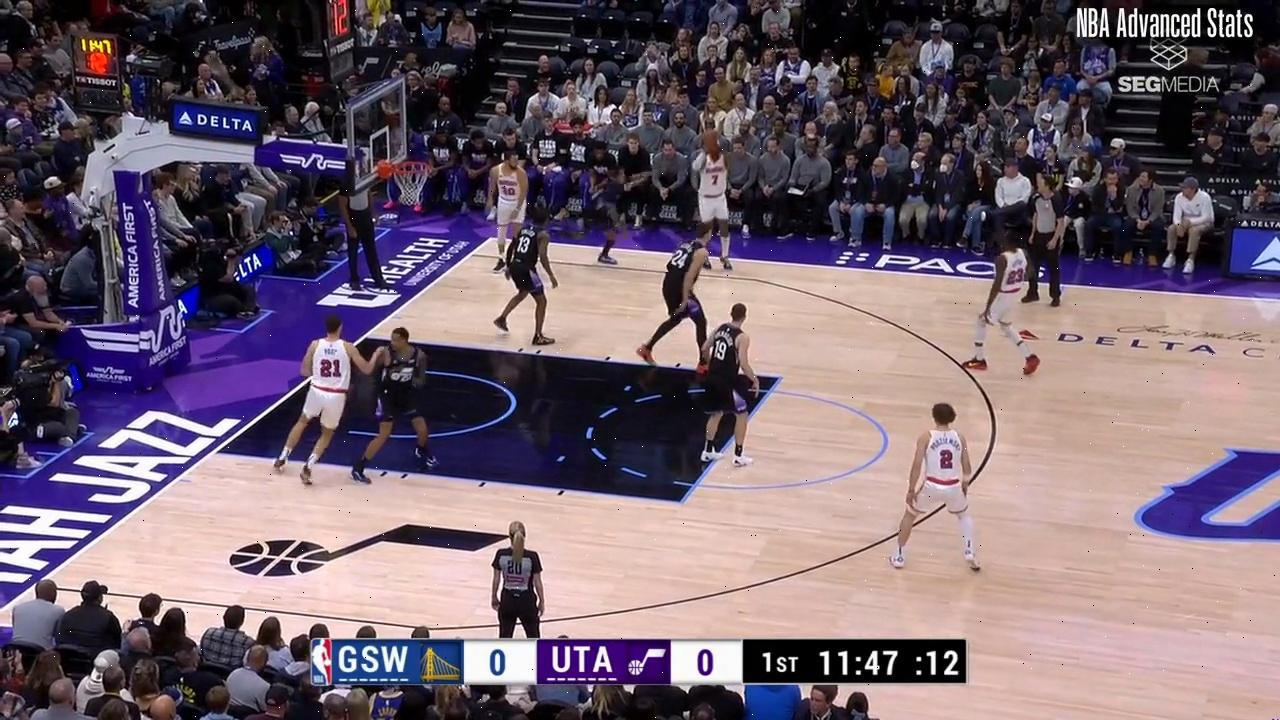basketball: (700, 129, 723, 152)
